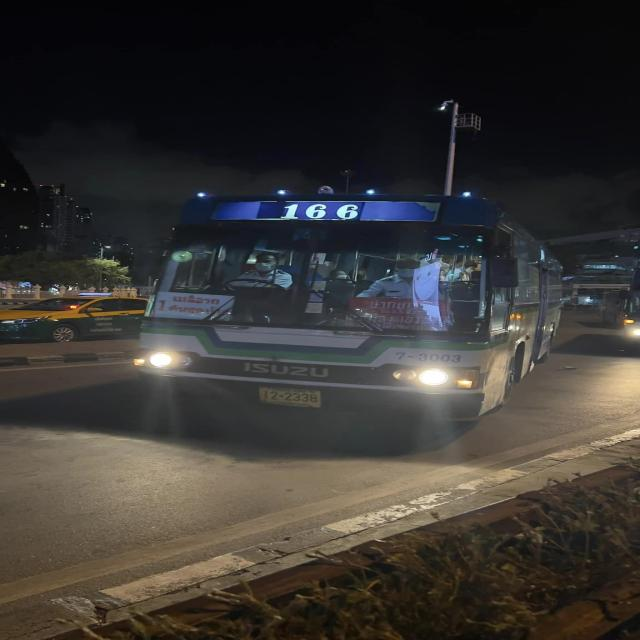BMTA-bus: (128, 182, 572, 425)
Bus-Line-Number: (256, 200, 380, 222)
Destination-Sign-Extra-Bus: (349, 298, 453, 332)
